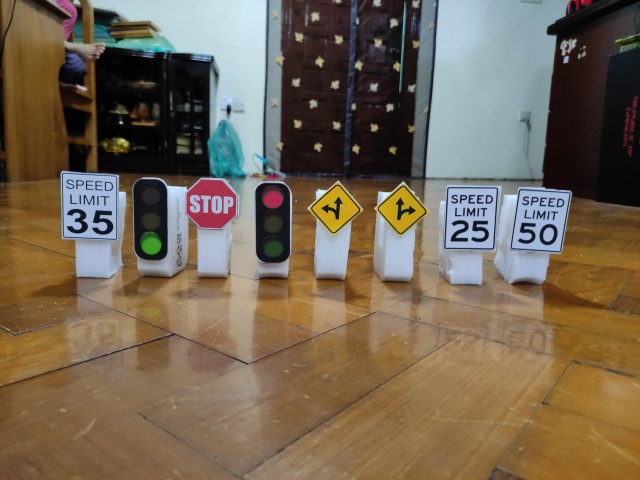Green Traffic Light: (133, 176, 171, 260)
Red Traffic Light: (254, 181, 293, 264)
Speed Limit 25: (442, 186, 500, 251)
Speed Limit 35: (60, 169, 119, 243)
Speed Limit 50: (511, 188, 573, 254)
Stop Sign: (186, 177, 239, 233)
Straight Or Left Sign: (308, 181, 362, 234)
Straight Or Right Sign: (377, 183, 429, 235)
